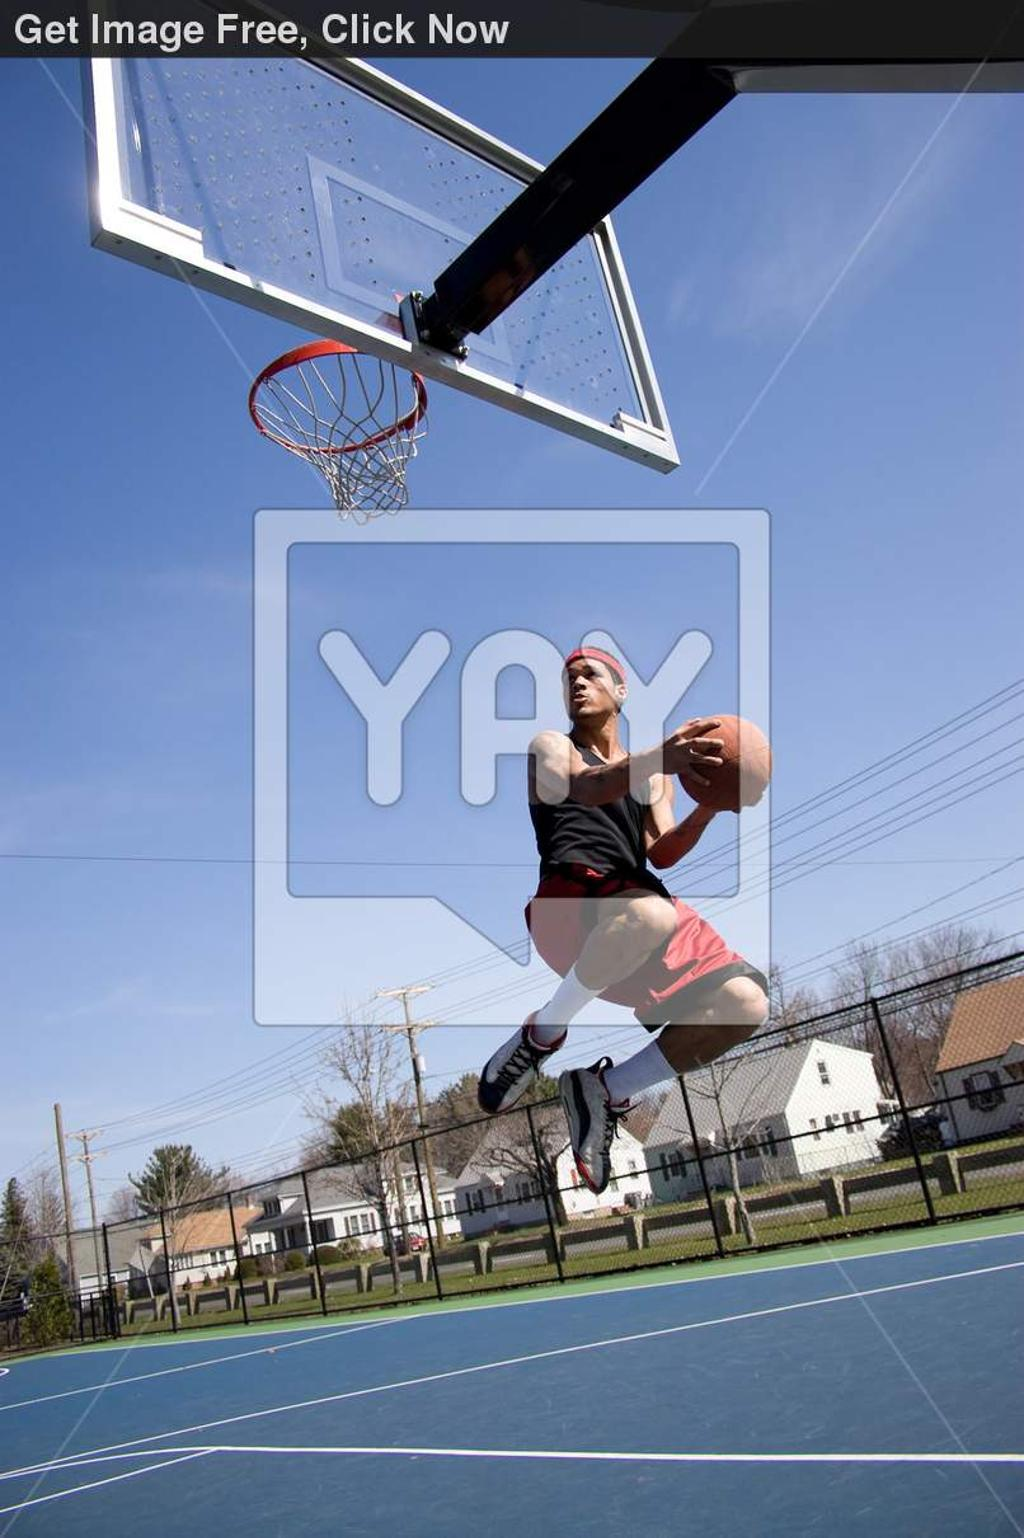face: (563, 660, 619, 716)
